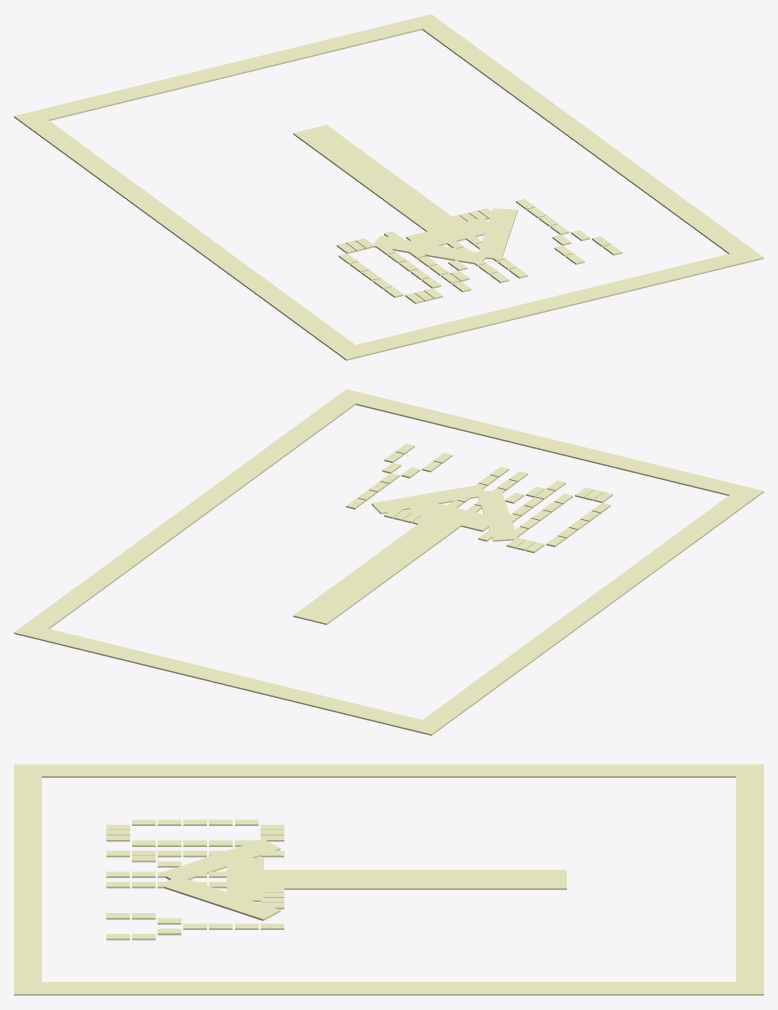
Rendered from marking_straight_only_box_white.glb.
3 views of the same model, one above another, from view 1: azimuth 30°, elevation 25°; view 2: azimuth 150°, elevation 25°; view 3: azimuth 270°, elevation 25° (orthographic). The views are drawn at different scales.
Parts seen in each view (by area): view 1: straight_only_box_left, straight_only_box_right, straight_only_box_bottom, straight_only_box_top, straight_only_box_arrow_shaft, straight_only_box_arrow_head_left, straight_only_box_arrow_cap, straight_only_box_arrow_head_right; view 2: straight_only_box_left, straight_only_box_right, straight_only_box_top, straight_only_box_bottom, straight_only_box_arrow_shaft, straight_only_box_arrow_cap, straight_only_box_arrow_head_right, straight_only_box_arrow_head_left; view 3: straight_only_box_left, straight_only_box_right, straight_only_box_top, straight_only_box_bottom, straight_only_box_arrow_shaft, straight_only_box_arrow_head_left, straight_only_box_arrow_head_right, straight_only_box_arrow_cap.
Boxes of the visible parts, x1,y1,x2,y2 form: straight_only_box_left: (26,120,354,351); straight_only_box_right: (422,23,750,253); straight_only_box_bottom: (334,248,763,360); straight_only_box_top: (14,14,443,125); straight_only_box_arrow_shaft: (293,125,462,231); straight_only_box_arrow_head_left: (372,235,488,264); straight_only_box_arrow_cap: (406,218,498,248); straight_only_box_arrow_head_right: (478,208,517,259); straight_only_box_left: (423,495,751,726); straight_only_box_right: (27,398,355,628); straight_only_box_top: (14,623,443,735); straight_only_box_bottom: (334,389,763,500); straight_only_box_arrow_shaft: (293,516,461,624); straight_only_box_arrow_cap: (406,499,498,531); straight_only_box_arrow_head_right: (371,484,488,514); straight_only_box_arrow_head_left: (477,490,516,541); straight_only_box_left: (42,764,735,777); straight_only_box_right: (42,982,735,995); straight_only_box_top: (736,764,763,995); straight_only_box_bottom: (14,764,41,995); straight_only_box_arrow_shaft: (261,870,566,889); straight_only_box_arrow_head_left: (160,839,280,881); straight_only_box_arrow_head_right: (164,878,280,920); straight_only_box_arrow_cap: (226,858,263,901).
Bounding box in the file's own units: 1.74 × 0.006 × 2.4.
